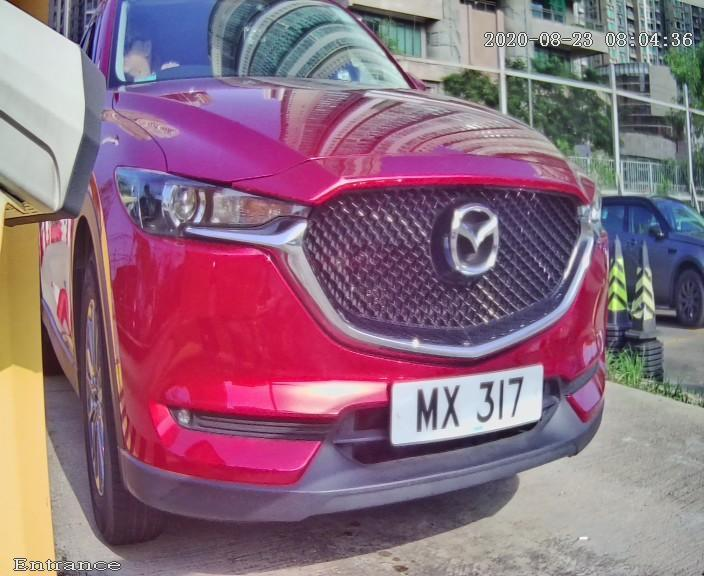Car: (13, 6, 645, 576)
License Plate: (378, 355, 554, 456)
